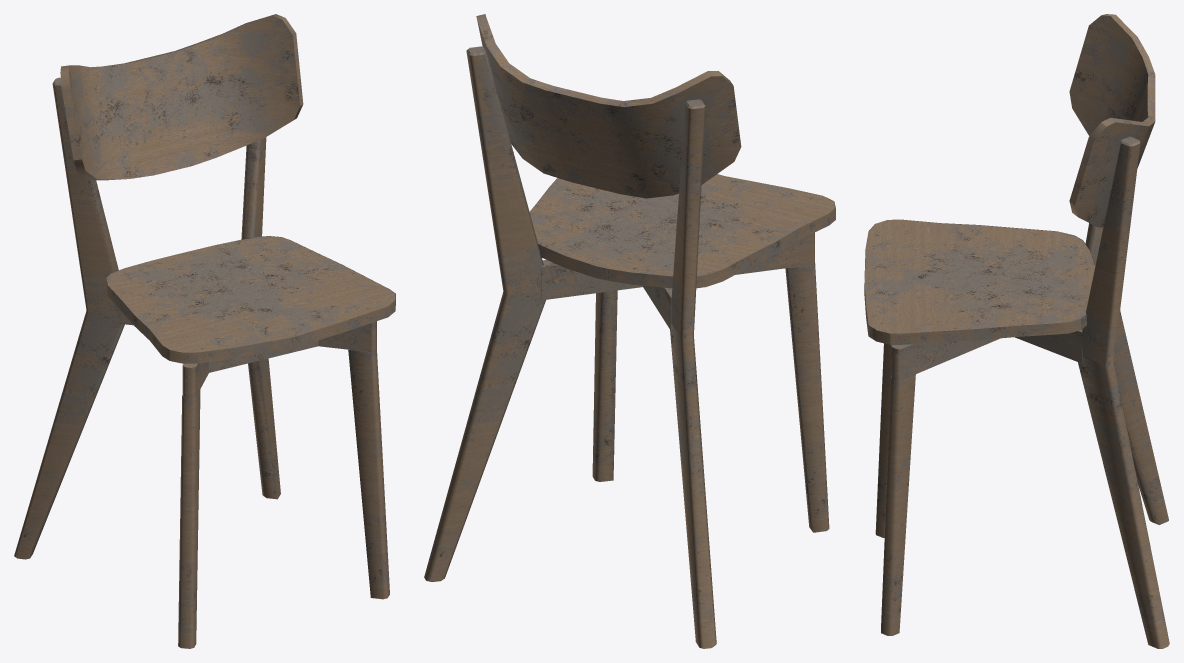
The model's file is wood_chair.glb.
The picture shows the model from 3 angles, left to right: view 1: azimuth 30°, elevation 25°; view 2: azimuth 150°, elevation 25°; view 3: azimuth 270°, elevation 25°; orthographic projection. The views are drawn at different scales.
Parts seen in each view (by area): view 1: ChairSeat2Shape; view 2: ChairSeat2Shape; view 3: ChairSeat2Shape.
Boxes of the visible parts, x1,y1,x2,y2 form: ChairSeat2Shape: (14, 14, 395, 648); ChairSeat2Shape: (424, 14, 835, 648); ChairSeat2Shape: (864, 14, 1169, 648).
Bounding box in the file's own units: 18.56 × 33.61 × 18.04.
1 material, 1 textured.
